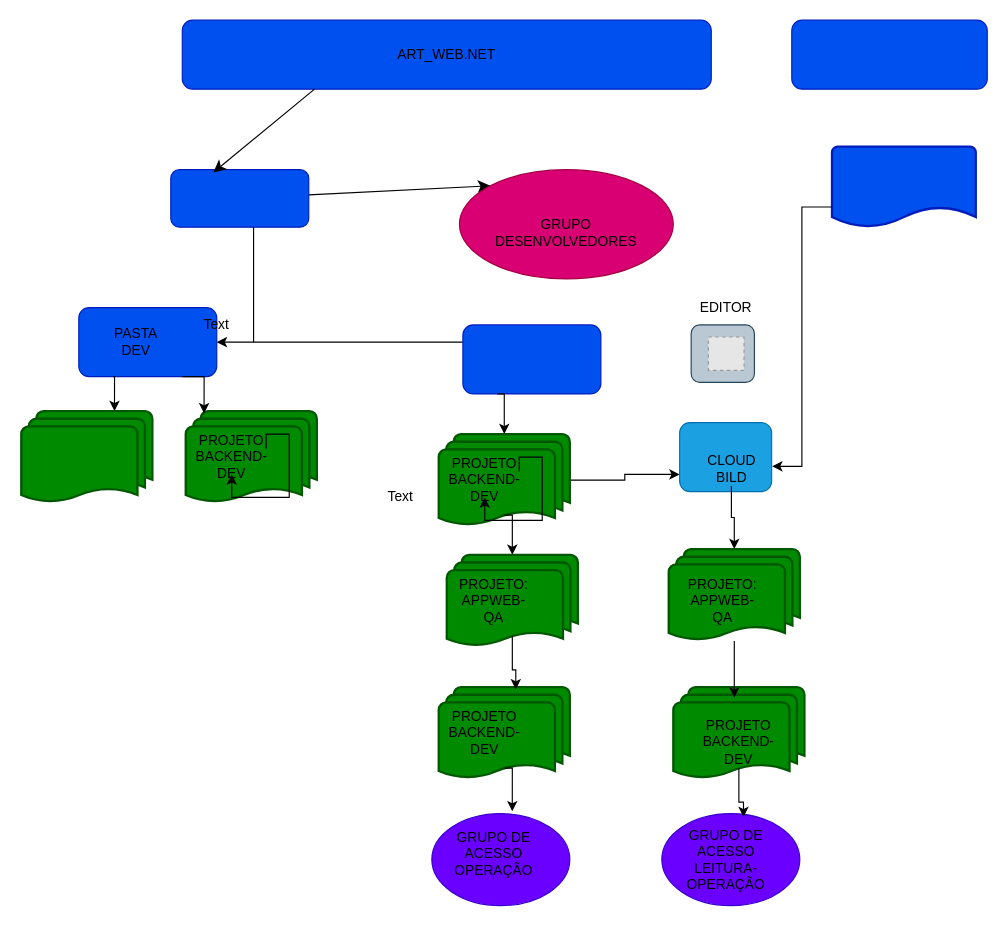
This 1007x926 diagram has some shape labels left out. Grey dashed boxes stand in for pictures. Each missing label, with the centre of its shape:
"AMBIENTES" goes at [239,197].
"COMPARTILHADO" goes at [889,54].
"PASTA PROD" goes at [531,359].
"PROJETO APPWEB-DEV" goes at [86,456].
"PROJETO: ADM REDE-HUB" goes at [903,186].
